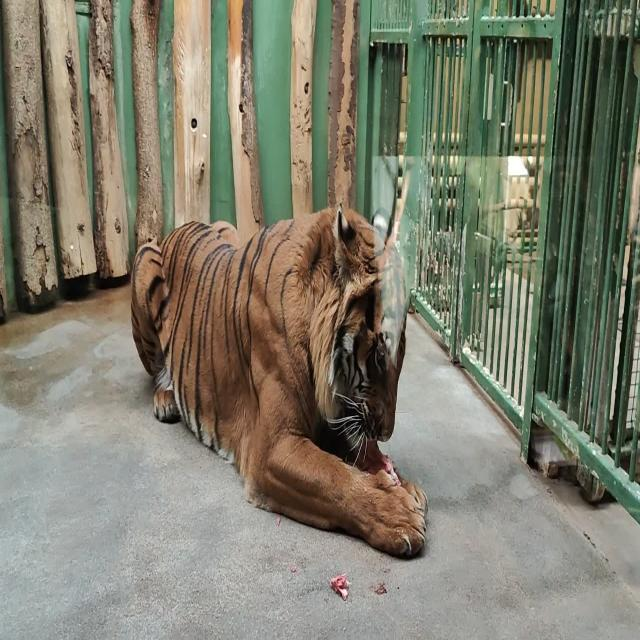tiger: (131, 207, 428, 559)
